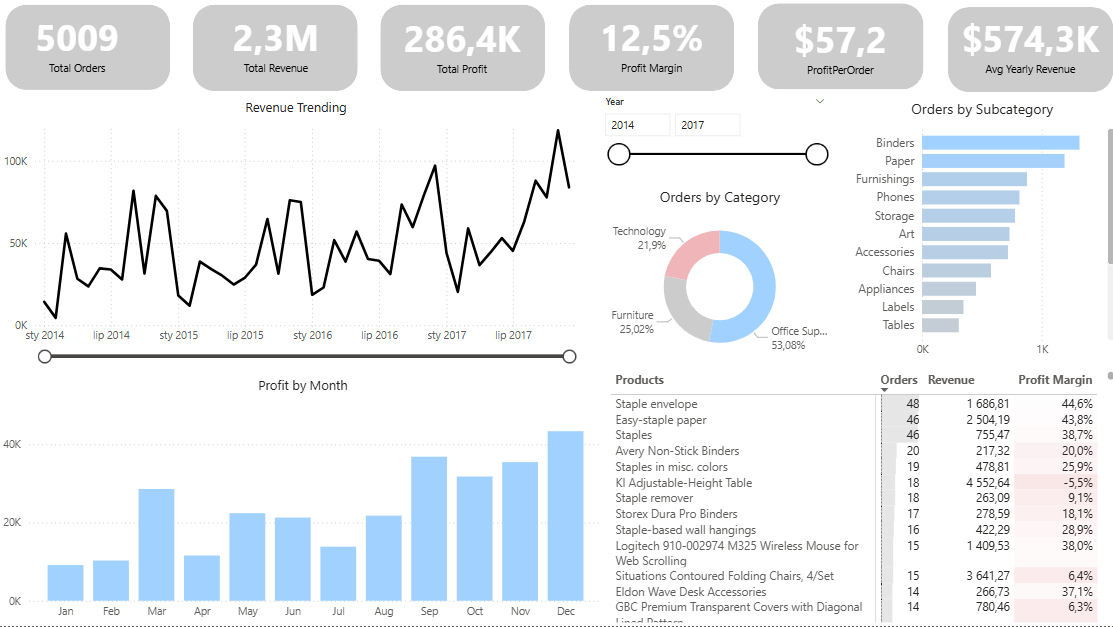

This screenshot's page, from the dashboard's own definition file:
{"tool":"powerbi","page":{"name":"Profit","canvas":[1280,720],"ordinal":0},"visuals":[{"type":"shape","box":[650.5,8.2,188.8,98.9],"z":0,"group":"g1"},{"type":"columnChart","title":"Profit by Month","fields":{"Category":["Calendar.Month"],"Y":["Measures Table.Total Profit"]},"box":[0,432.9,694.6,287.4],"z":0},{"type":"shape","box":[867.2,6.8,189.5,98.6],"z":1000,"group":"g1"},{"type":"lineChart","title":"Revenue Trending","fields":{"Category":["Calendar.StartOfMonth"],"Y":["Measures Table.Total Revenue"]},"box":[0,116.2,678.7,305.7],"z":1000},{"type":"shape","box":[221.2,8.2,188.6,99],"z":2000,"group":"g1"},{"type":"group","id":"g1","title":"KPI","box":[6.7,6.8,1266.6,101.5],"z":2000},{"type":"slicer","fields":{"Values":["Calendar.Year"]},"box":[680.6,108.4,275.8,98.8],"z":3000},{"type":"shape","box":[435.7,8.2,188.6,99],"z":4000,"group":"g1"},{"type":"pivotTable","fields":{"Rows":["Sample - Superstore.Product Name"],"Values":["Measures Table.Order Count","Measures Table.Total Revenue","Measures Table.Profit Margin"]},"box":[694.6,423.1,585.7,297.1],"z":4000},{"type":"shape","box":[6.7,8.2,188.6,97.8],"z":5000,"group":"g1"},{"type":"donutChart","title":"Orders by Category","fields":{"Y":["Measures Table.Order Count"],"Category":["Sample - Superstore.Category"]},"box":[694.6,216.4,259.2,206.7],"z":5000},{"type":"card","fields":{"Values":["Measures Table.Total Revenue"]},"box":[243.3,12.2,144.7,81.7],"z":6000,"group":"g1"},{"type":"clusteredBarChart","title":"Orders by Subcategory","fields":{"Category":["Sample - Superstore.Sub-Category"],"Y":["Measures Table.Total Orders"]},"box":[967.3,116.2,313,305.7],"z":6000},{"type":"card","fields":{"Values":["Measures Table.Order Count"]},"box":[16.9,12.2,144.7,81.7],"z":7000,"group":"g1"},{"type":"card","fields":{"Values":["Measures Table.Total Profit"]},"box":[444.1,12.2,170.2,83.4],"z":8000,"group":"g1"},{"type":"card","fields":{"Values":["Measures Table.ProfitPerOrder"]},"box":[888.4,14.6,146.4,81.7],"z":8500,"group":"g1"},{"type":"card","fields":{"Values":["Measures Table.Profit Margin"]},"box":[672.2,12.2,146.4,81.7],"z":9000,"group":"g1"},{"type":"shape","box":[1083.9,10.9,189.4,97.4],"z":9500,"group":"g1"},{"type":"card","fields":{"Values":["Measures Table.Avg Yearly Revenue"]},"box":[1092.7,12.9,171.9,83.4],"z":10000,"group":"g1"}]}

Visuals, with their boxes in screenshot pixels (x1, y1, x2, y2), scaled from the page's 1280x720 canvas onto the 1113x627 screenshot:
shape: bbox=(566, 7, 730, 93)
"Profit by Month" columnChart: bbox=(0, 377, 604, 626)
shape: bbox=(754, 6, 919, 92)
"Revenue Trending" lineChart: bbox=(0, 101, 590, 367)
shape: bbox=(192, 7, 356, 93)
"KPI" group: bbox=(6, 6, 1107, 94)
slicer - Calendar.Year: bbox=(592, 94, 832, 180)
shape: bbox=(379, 7, 543, 93)
pivotTable - Sample - Superstore.Product Name x Measures Table.Order Count: bbox=(604, 368, 1112, 626)
shape: bbox=(6, 7, 170, 92)
"Orders by Category" donutChart: bbox=(604, 188, 829, 368)
card - Measures Table.Total Revenue: bbox=(212, 11, 337, 82)
"Orders by Subcategory" clusteredBarChart: bbox=(841, 101, 1112, 367)
card - Measures Table.Order Count: bbox=(15, 11, 141, 82)
card - Measures Table.Total Profit: bbox=(386, 11, 534, 83)
card - Measures Table.ProfitPerOrder: bbox=(772, 13, 900, 84)
card - Measures Table.Profit Margin: bbox=(584, 11, 712, 82)
shape: bbox=(942, 9, 1107, 94)
card - Measures Table.Avg Yearly Revenue: bbox=(950, 11, 1100, 84)
